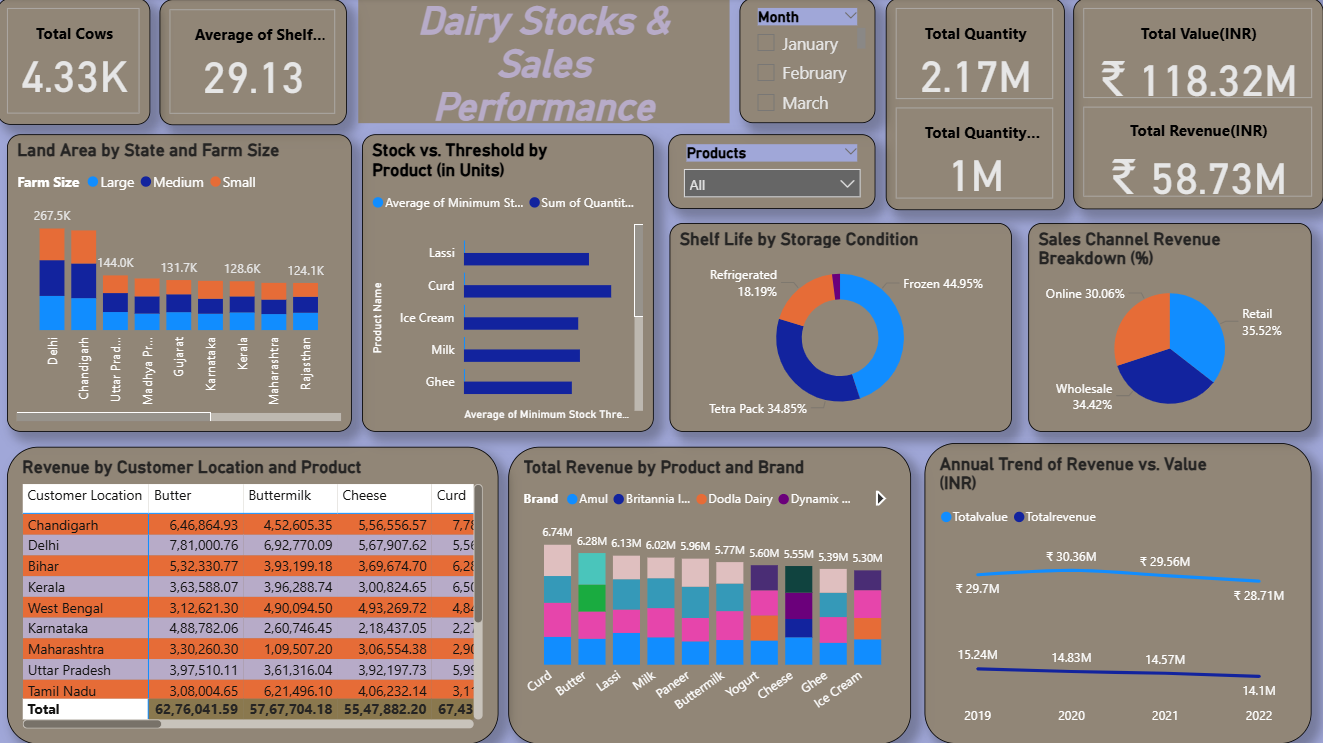

Layout of this report page (visuals, bound fields, positions):
{"tool":"powerbi","page":{"name":"Page 1","canvas":[1280,720],"ordinal":0},"visuals":[{"type":"cardVisual","fields":{"Data":["Avg(Dairy data sets.Shelf Life (days))"]},"box":[156.8,1.2,181,121.9],"z":0},{"type":"cardVisual","fields":{"Data":["Dairy_data_sets.CowCount"]},"box":[0,0,148.2,122.1],"z":1000},{"type":"columnChart","title":"Land Area by State and Farm Size","fields":{"Category":["Dairy data sets.Location"],"Y":["Sum(Dairy_data_sets.Total Land Area (acres))"],"Series":["Dairy_data_sets.Farm Size"]},"box":[10,131.4,332.9,287.1],"z":2000},{"type":"columnChart","title":"Total Revenue by Product and Brand","fields":{"Category":["Dairy data sets.Product Name"],"Series":["Dairy data sets.Brand"],"Y":["Dairy_data_sets.Totalrevenue"]},"box":[492.9,432.9,388.6,287.1],"z":3000},{"type":"lineChart","title":"Annual Trend of Revenue vs. Value (INR)","fields":{"Category":["Dairy data sets.Date.Variation.Date Hierarchy.Year","Dairy data sets.Date.Variation.Date Hierarchy.Quarter","Dairy data sets.Date.Variation.Date Hierarchy.Month","Dairy data sets.Date.Variation.Date Hierarchy.Day"],"Y":["Dairy_data_sets.Totalvalue","Dairy_data_sets.Totalrevenue"]},"box":[895.2,429.5,374,290.8],"z":4000},{"type":"pieChart","title":"Sales Channel Revenue Breakdown (%)","fields":{"Y":["Dairy_data_sets.Totalrevenue"],"Category":["Dairy data sets.Sales Channel"]},"box":[995.3,217.2,273.9,201.5],"z":5000},{"type":"cardVisual","fields":{"Data":["Sum(Dairy data sets.Total Value)","Sum(Dairy data sets.Approx. Total Revenue(INR))"]},"box":[1038.7,0,241.3,203.9],"z":6000},{"type":"cardVisual","fields":{"Data":["Sum(Dairy data sets.Quantity (liters/kg))","Sum(Dairy data sets.Quantity Sold (liters/kg))"]},"box":[857.6,0,172.9,204.5],"z":7000},{"type":"slicer","fields":{"Values":["Dairy data sets.Date.Variation.Date Hierarchy.Month"]},"box":[716.6,0,131.5,120.6],"z":8000},{"type":"slicer","fields":{"Values":["Dairy data sets.Product Name"]},"box":[647.9,131.5,200.3,72.4],"z":9000},{"type":"pivotTable","title":" Revenue by Customer Location and Product","fields":{"Rows":["Dairy_data_sets.Customer Location"],"Columns":["Dairy_data_sets.Product Name"],"Values":["Dairy_data_sets.Totalrevenue"]},"box":[10,432.9,474.3,287.1],"z":10000},{"type":"donutChart","title":"Shelf Life by Storage Condition","fields":{"Category":["Dairy_data_sets.Storage Condition"],"Y":["Dairy_data_sets.Averageshelflife"]},"box":[648.6,217.1,330,201.4],"z":11000},{"type":"clusteredBarChart","title":"Stock vs. Threshold by Product (in Units)","fields":{"Category":["Dairy_data_sets.Product Name"],"Y":["Avg(Dairy_data_sets.Minimum Stock Threshold (liters/kg))","Sum(Dairy_data_sets.Quantity in Stock (liters/kg))"]},"box":[352.9,131.4,281.4,287.1],"z":12000},{"type":"shape","title":"Dairy Stocks & Sales Performance","box":[348.7,0,358.3,120.6],"z":13000}]}

Visuals, with their boxes in screenshot pixels (x1, y1, x2, y2), scaled from the page's 1280x720 canvas onto the 1323x743 screenshot:
cardVisual - Avg(Dairy data sets.Shelf Life (days)): Rect(162, 1, 349, 127)
cardVisual - Dairy_data_sets.CowCount: Rect(0, 0, 153, 126)
"Land Area by State and Farm Size" columnChart: Rect(10, 136, 354, 432)
"Total Revenue by Product and Brand" columnChart: Rect(509, 447, 911, 742)
"Annual Trend of Revenue vs. Value (INR)" lineChart: Rect(925, 443, 1312, 742)
"Sales Channel Revenue Breakdown (%)" pieChart: Rect(1029, 224, 1312, 432)
cardVisual - Sum(Dairy data sets.Total Value) x Sum(Dairy data sets.Approx. Total Revenue(INR)): Rect(1074, 0, 1322, 210)
cardVisual - Sum(Dairy data sets.Quantity (liters/kg)) x Sum(Dairy data sets.Quantity Sold (liters/kg)): Rect(886, 0, 1065, 211)
slicer - Dairy data sets.Date.Variation.Date Hierarchy.Month: Rect(741, 0, 877, 124)
slicer - Dairy data sets.Product Name: Rect(670, 136, 877, 210)
" Revenue by Customer Location and Product" pivotTable: Rect(10, 447, 501, 742)
"Shelf Life by Storage Condition" donutChart: Rect(670, 224, 1011, 432)
"Stock vs. Threshold by Product (in Units)" clusteredBarChart: Rect(365, 136, 656, 432)
"Dairy Stocks & Sales Performance" shape: Rect(360, 0, 731, 124)
